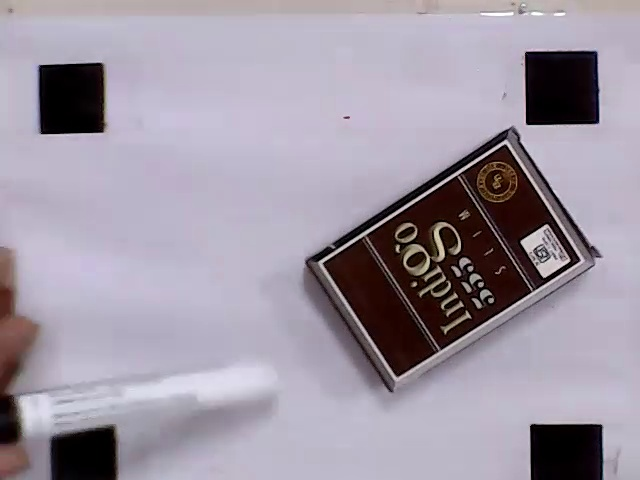BEX: (322, 142, 583, 380)
